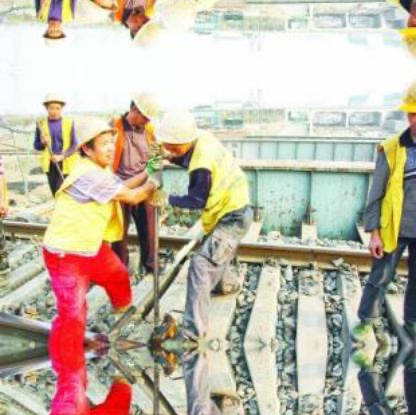Safety Helmet: (67, 111, 127, 172), (149, 104, 202, 164), (120, 6, 166, 54), (128, 83, 159, 130), (37, 13, 75, 50), (32, 88, 70, 119)
